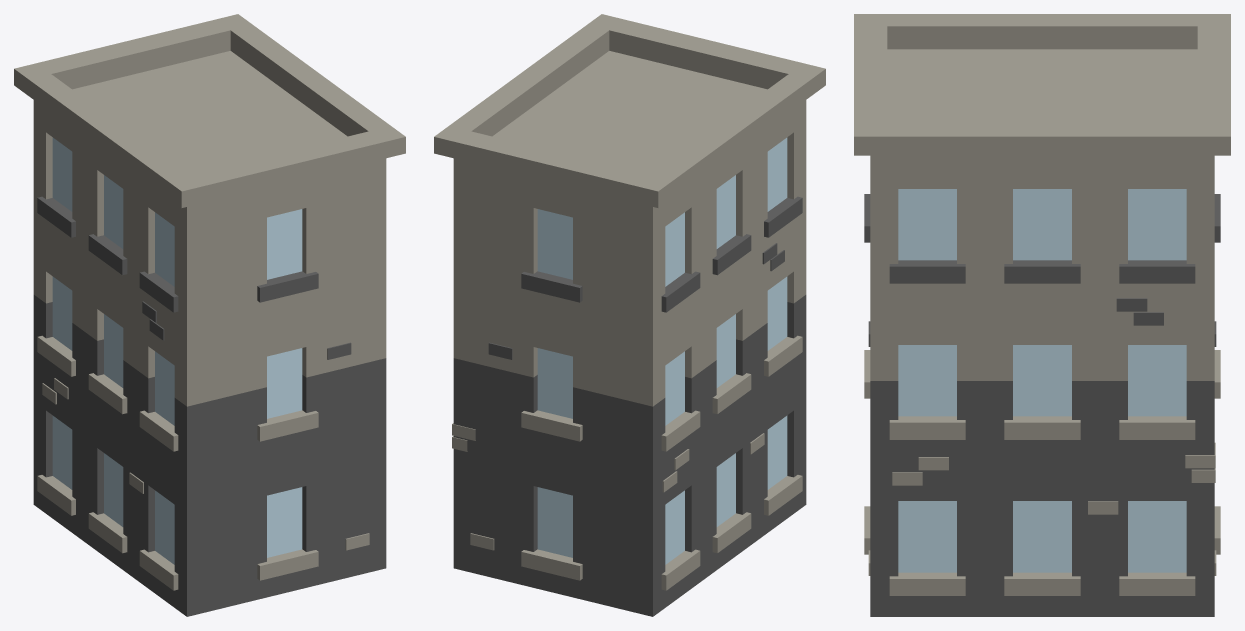
File: Building_2.fbx
3 views of the same model, side by side, from view 1: azimuth 30°, elevation 25°; view 2: azimuth 150°, elevation 25°; view 3: azimuth 270°, elevation 25° (orthographic). The views are drawn at different scales.
Visible parts, largest first — view 1: Building_2; view 2: Building_2; view 3: Building_2.
Part boxes in pixels (x1,y1,x2,y2): Building_2: (14,14,405,616); Building_2: (434,14,825,616); Building_2: (854,14,1230,616).
Bounding box in the file's own units: 13.5 × 24.96 × 17.5.
Materials: 1 (1 with a texture image).
